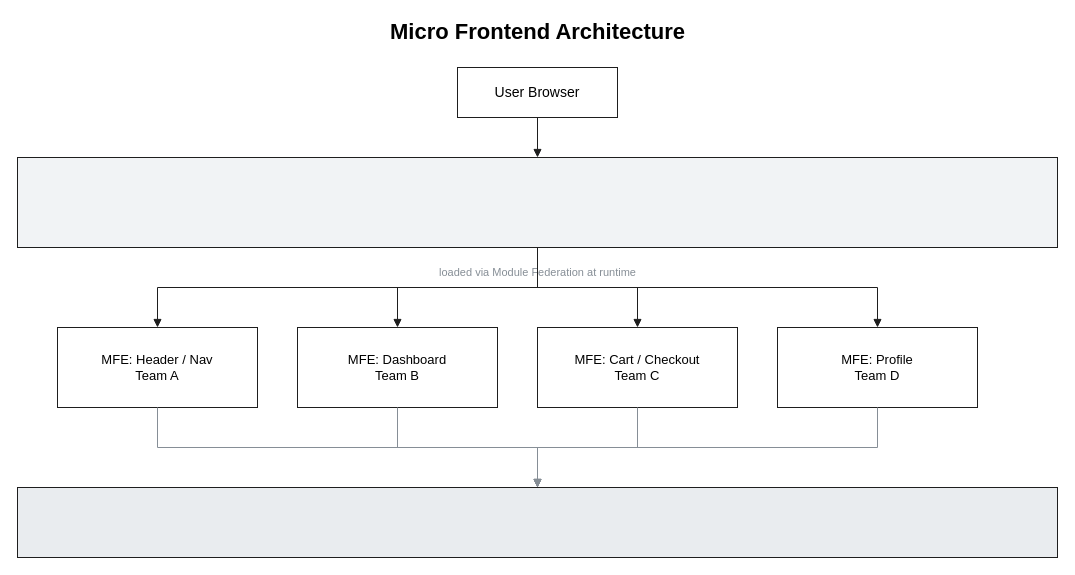
Some shapes in this 1075 by 575 pixel diagram are drawn without their labels. Here are the shapes that lost their labels. From the top down, the box of each, then its label:
(16, 156, 1058, 248): Shell Application (Host) — Client-Side Router —
(16, 486, 1058, 558): Shared: Design System / Auth / Utilities
